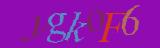6: (121, 5, 139, 35)
F: (97, 13, 127, 41)
g: (46, 13, 66, 42)
k: (64, 11, 87, 41)
o: (87, 9, 104, 31)
y: (20, 15, 50, 41)
